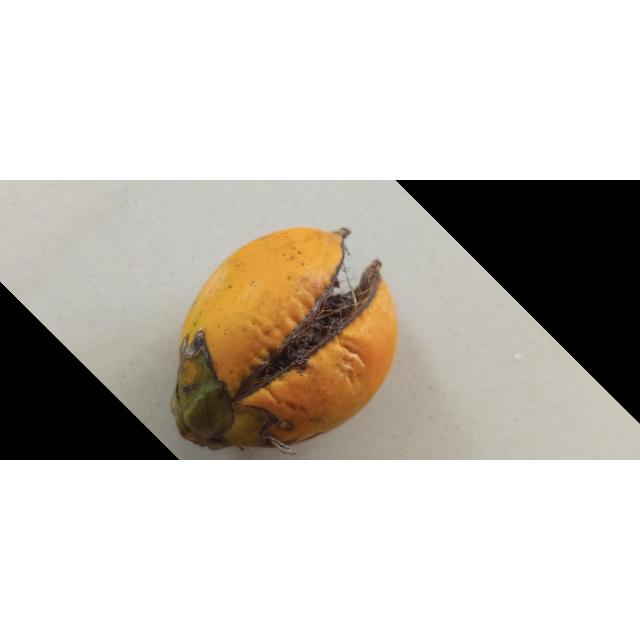damaged: (172, 227, 397, 450)
